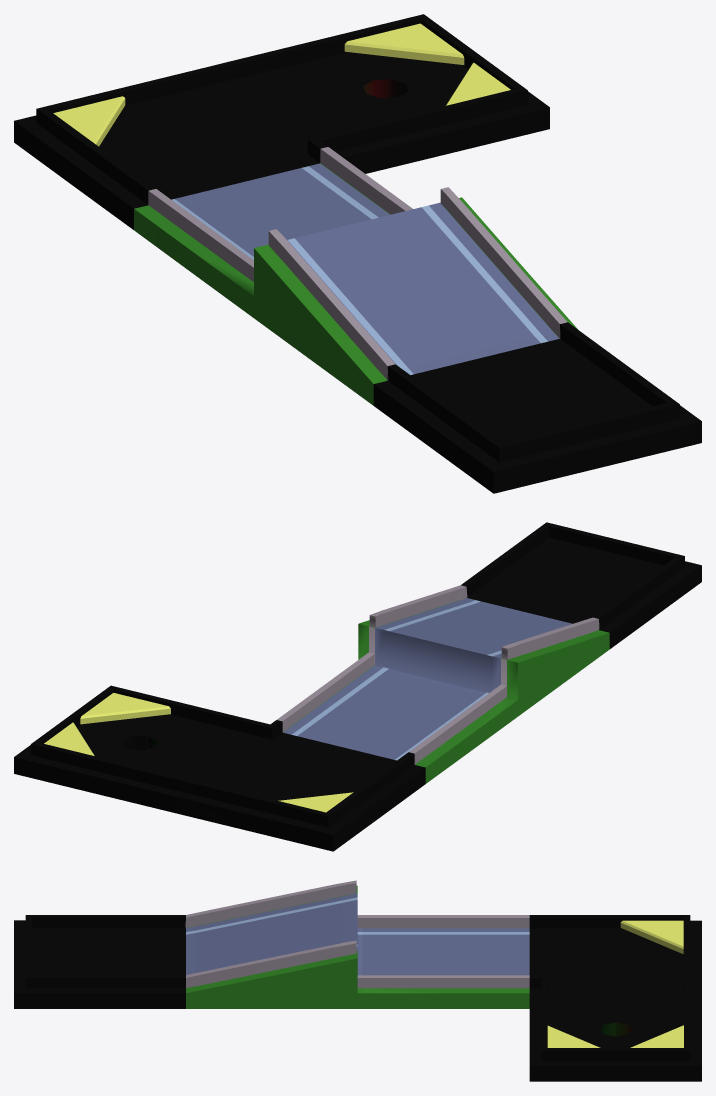
Rendered from Pista3Facil.fbx.
3 renders of one model, top to bottom at view 1: azimuth 30°, elevation 25°; view 2: azimuth 150°, elevation 25°; view 3: azimuth 270°, elevation 25°, orthographic. The views are drawn at different scales.
Visible parts, largest first — view 1: Box024.001, Box007.001, Box010.005, Object001.002, Object001, Object001.003; view 2: Box024.001, Box007.001, Box010.005, Object001.003, Object001.002, Object001; view 3: Box024.001, Box007.001, Box010.005, Object001, Object001.002, Object001.003.
Part boxes in pixels (<box>): Box024.001: <box>14,52,701,493</box>; Box007.001: <box>36,14,527,281</box>; Box010.005: <box>268,187,679,462</box>; Object001.002: <box>344,23,464,64</box>; Object001: <box>53,96,125,146</box>; Object001.003: <box>446,62,510,105</box>; Box024.001: <box>14,537,701,851</box>; Box007.001: <box>31,652,506,827</box>; Box010.005: <box>369,522,684,659</box>; Object001.003: <box>80,693,170,724</box>; Object001.002: <box>44,722,94,755</box>; Object001: <box>278,792,353,812</box>; Box024.001: <box>14,885,701,1081</box>; Box007.001: <box>357,915,690,1060</box>; Box010.005: <box>25,880,356,988</box>; Object001: <box>620,920,683,954</box>; Object001.002: <box>630,1025,683,1047</box>; Object001.003: <box>547,1025,600,1047</box>.
Bounding box in the file's own units: 101 × 19.6 × 202.
